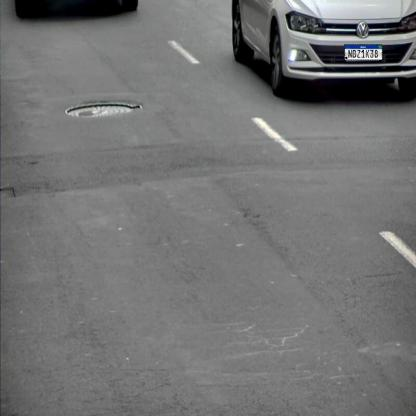PlacaM: (344, 44, 383, 60)
